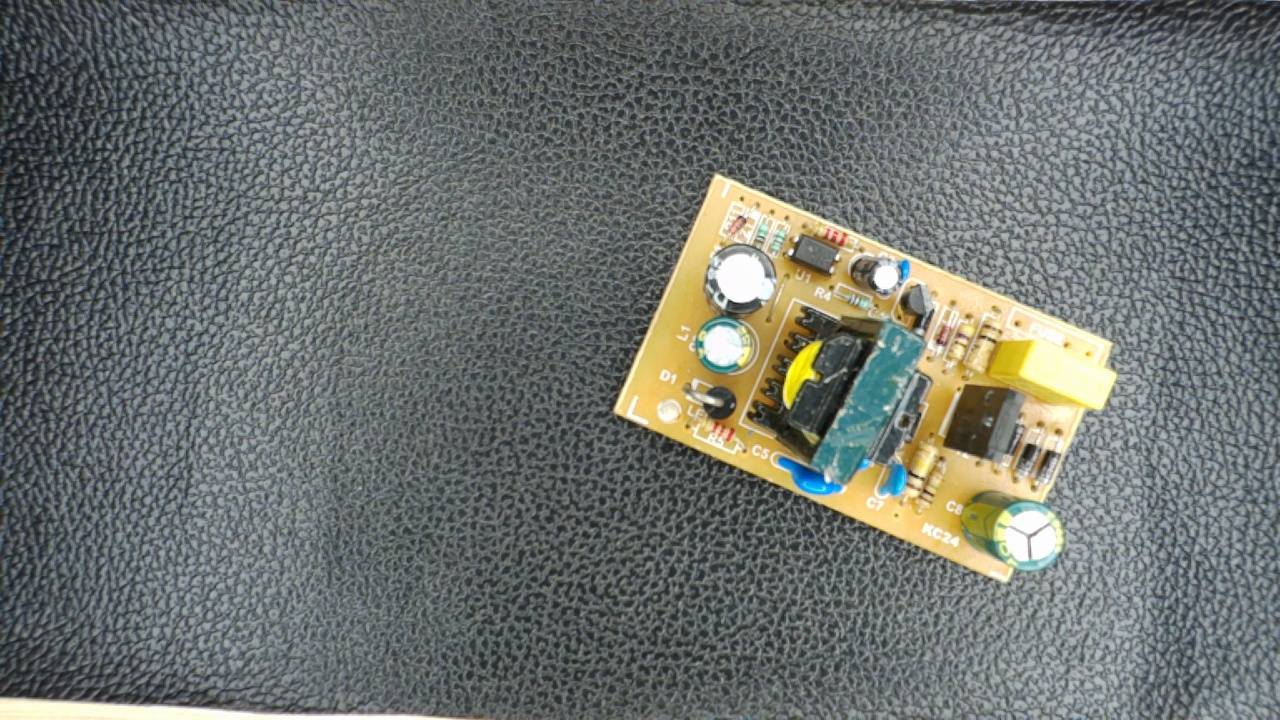hv_capacitor: (962, 492, 1065, 573)
mov: (771, 455, 854, 498)
optocoupler: (788, 230, 843, 279)
